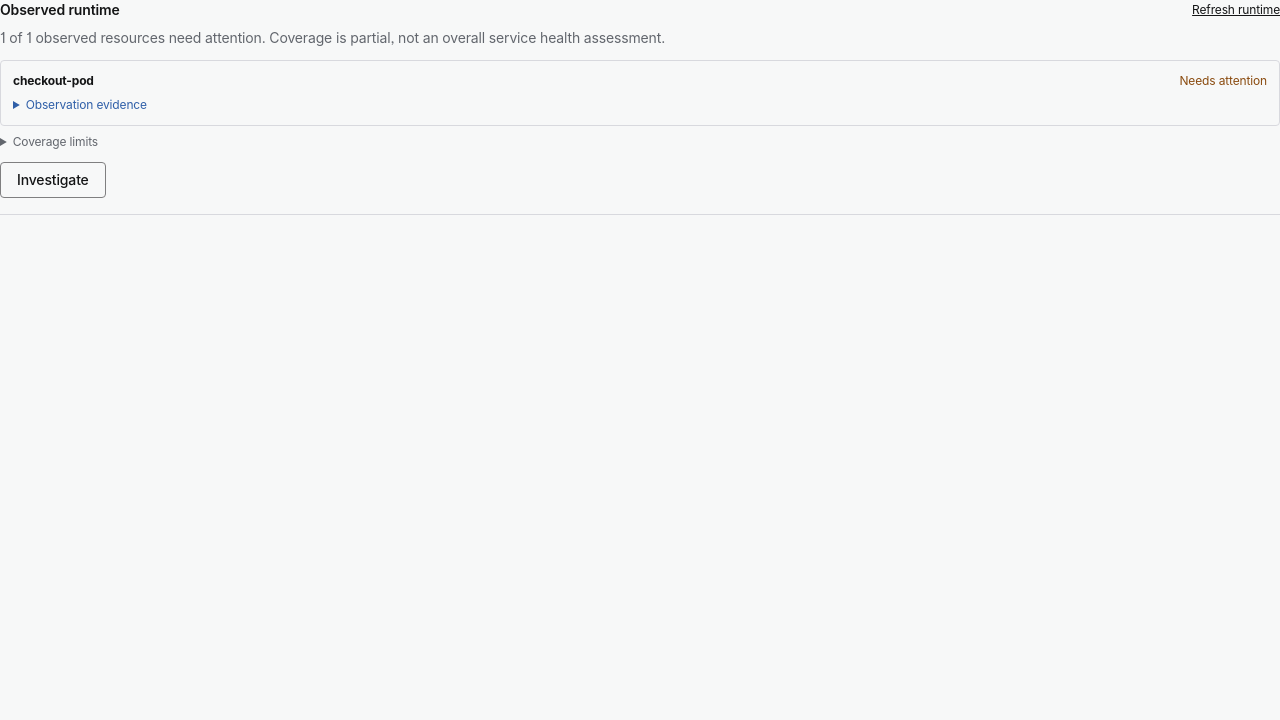
shows runtime evidence and requires confirmation before an exact scoped investigation
Check: the text "Needs attention" is shown, box [1180,73,1267,89]
Check: the text "Coverage is partial" is shown, box [0,29,665,46]
Click the button "Investigate".
click(53, 180)  # box [0,162,106,198]
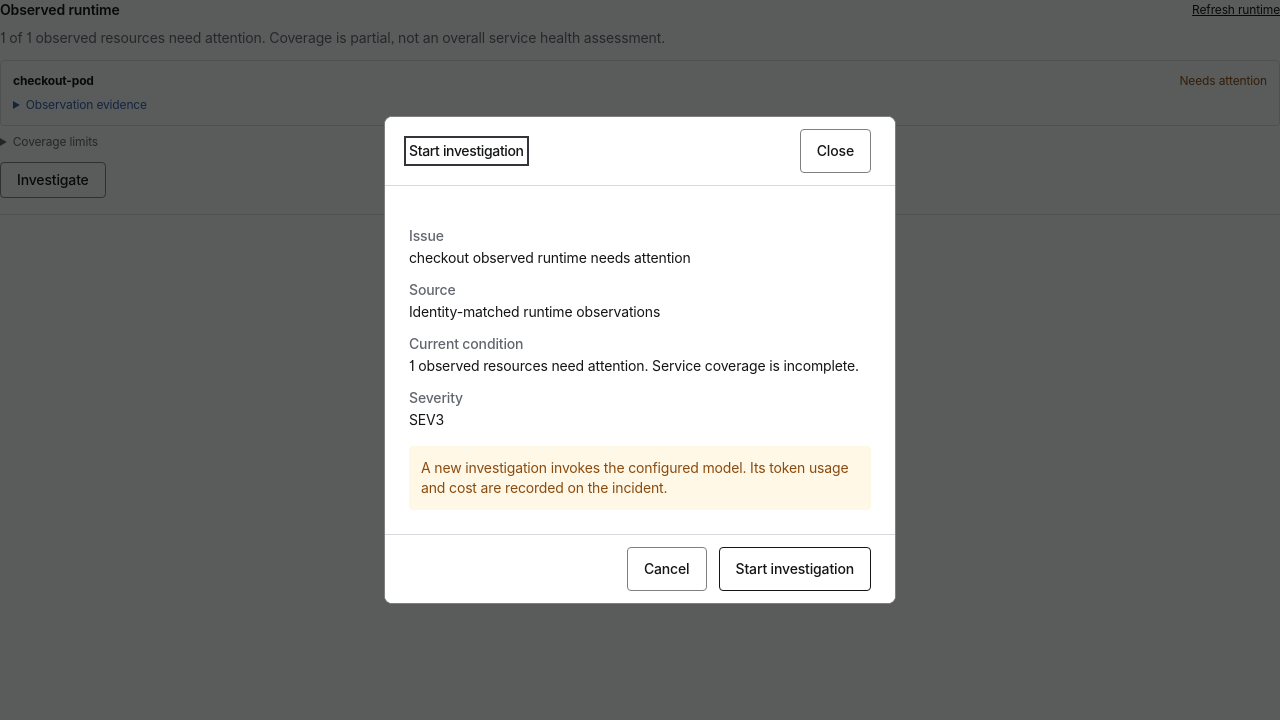
Click the button "Start investigation".
click(795, 569)  # box [718,547,871,591]
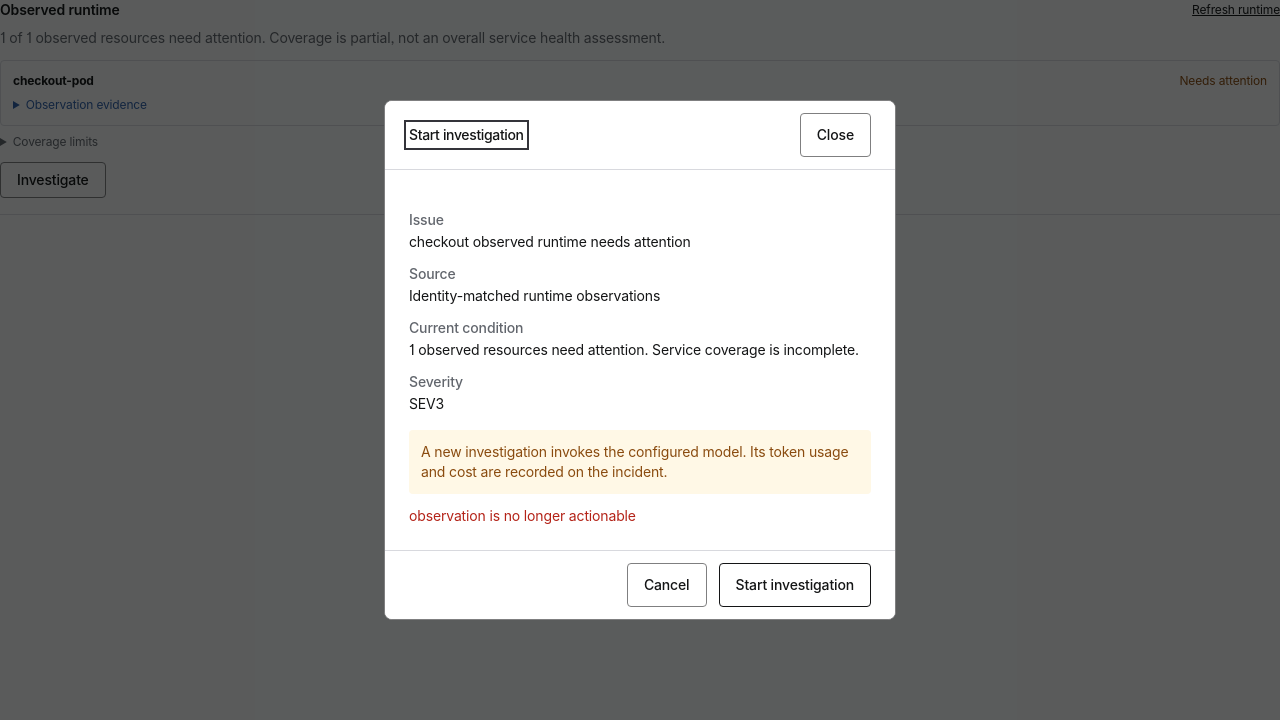
Check: the message "observation is no longer actionable" is shown, box [409,507,636,524]
